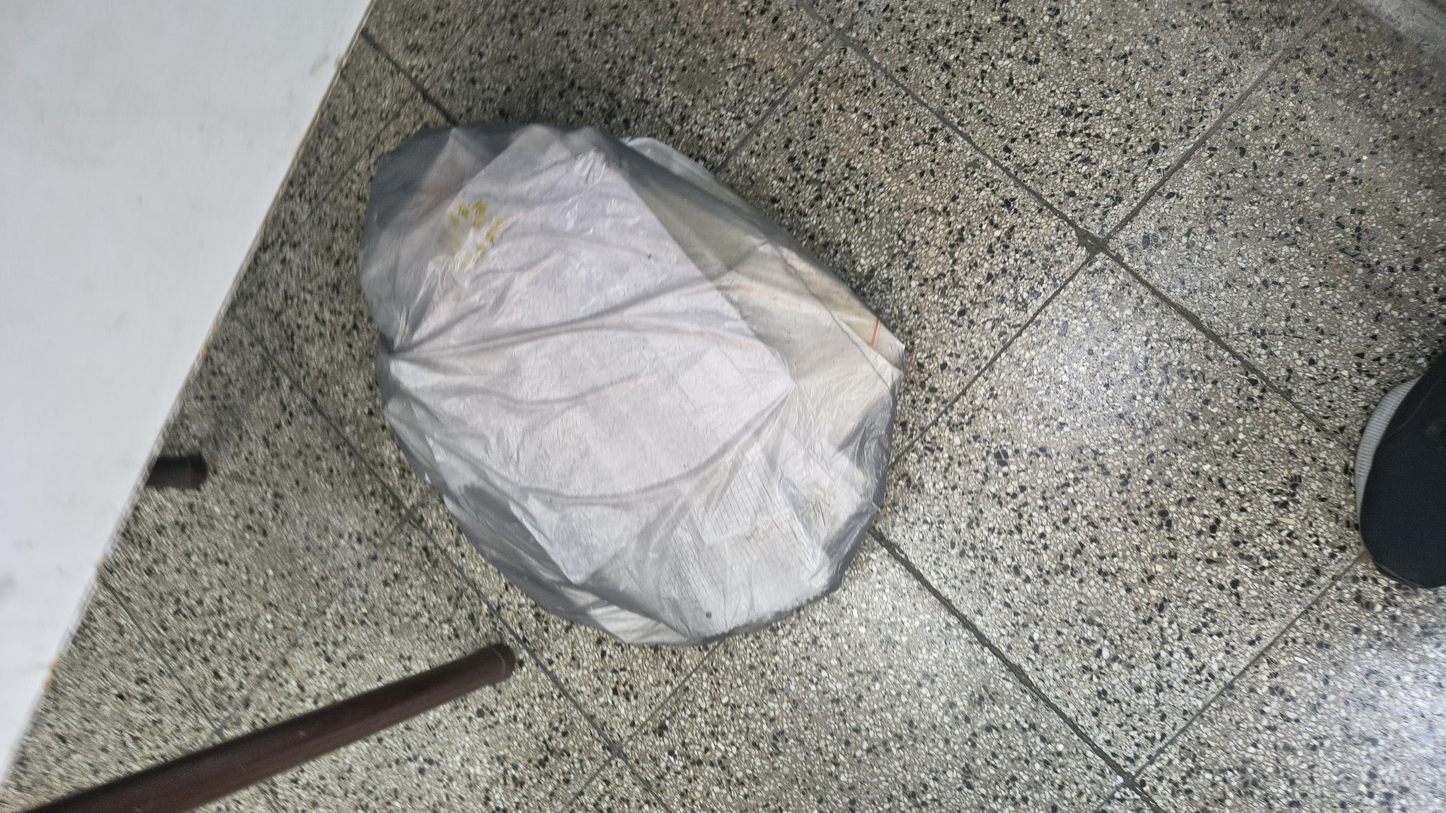Garbage: (238, 167, 1305, 524)
